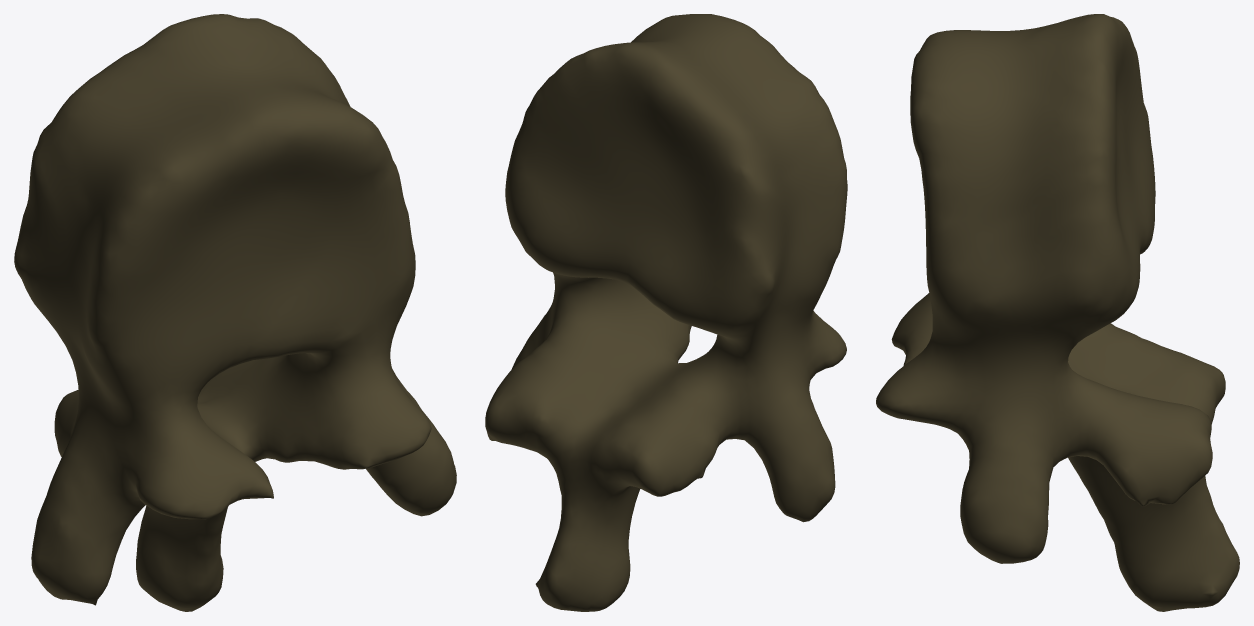
File: segmentations_vertebrae_T11.obj
3 views of the same model, side by side, from view 1: azimuth 30°, elevation 25°; view 2: azimuth 150°, elevation 25°; view 3: azimuth 270°, elevation 25° (orthographic). The views are drawn at different scales.
Visible parts, largest first — view 1: grp1; view 2: grp1; view 3: grp1.
Boxes of the visible parts, x1=… form: grp1: x1=14, y1=14, x2=456, y2=611; grp1: x1=485, y1=14, x2=847, y2=611; grp1: x1=876, y1=14, x2=1239, y2=611.
Bounding box in the file's own units: 32.67 × 49.58 × 28.26.
